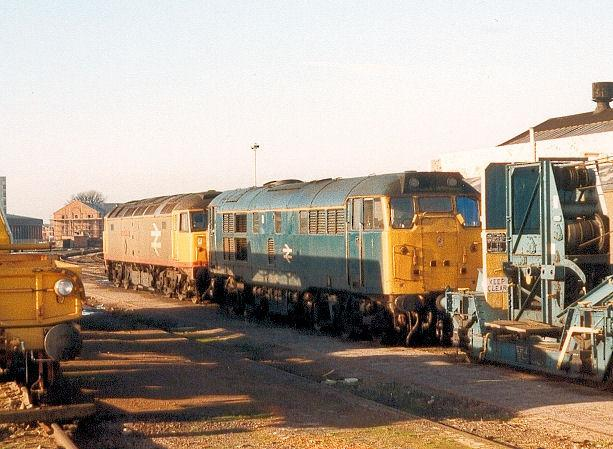Train: (102, 173, 486, 347)
